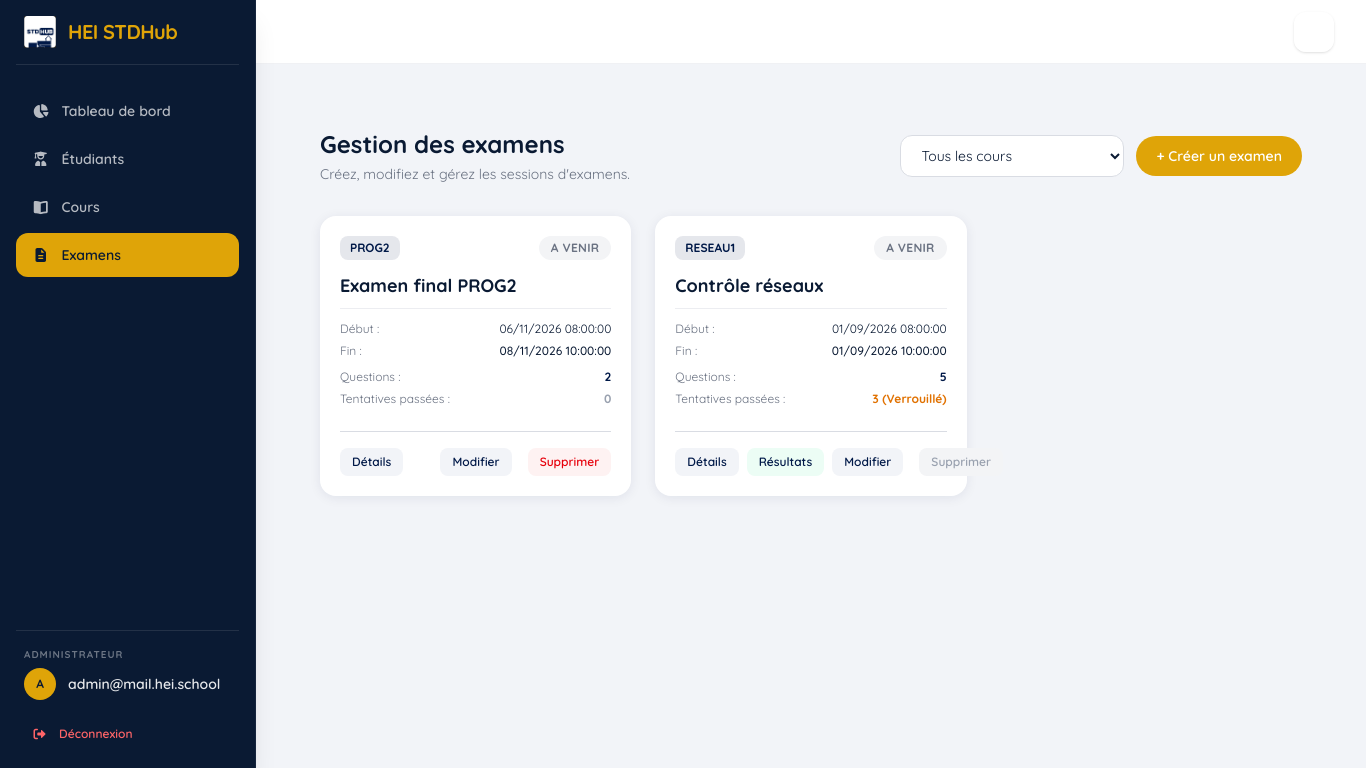
Test: Gestion des examens (admin) › crée un nouvel examen
This screenshot has width=1366, height=768.
Click the button "+ Créer un examen": (1219, 156) [1136, 136, 1302, 176]
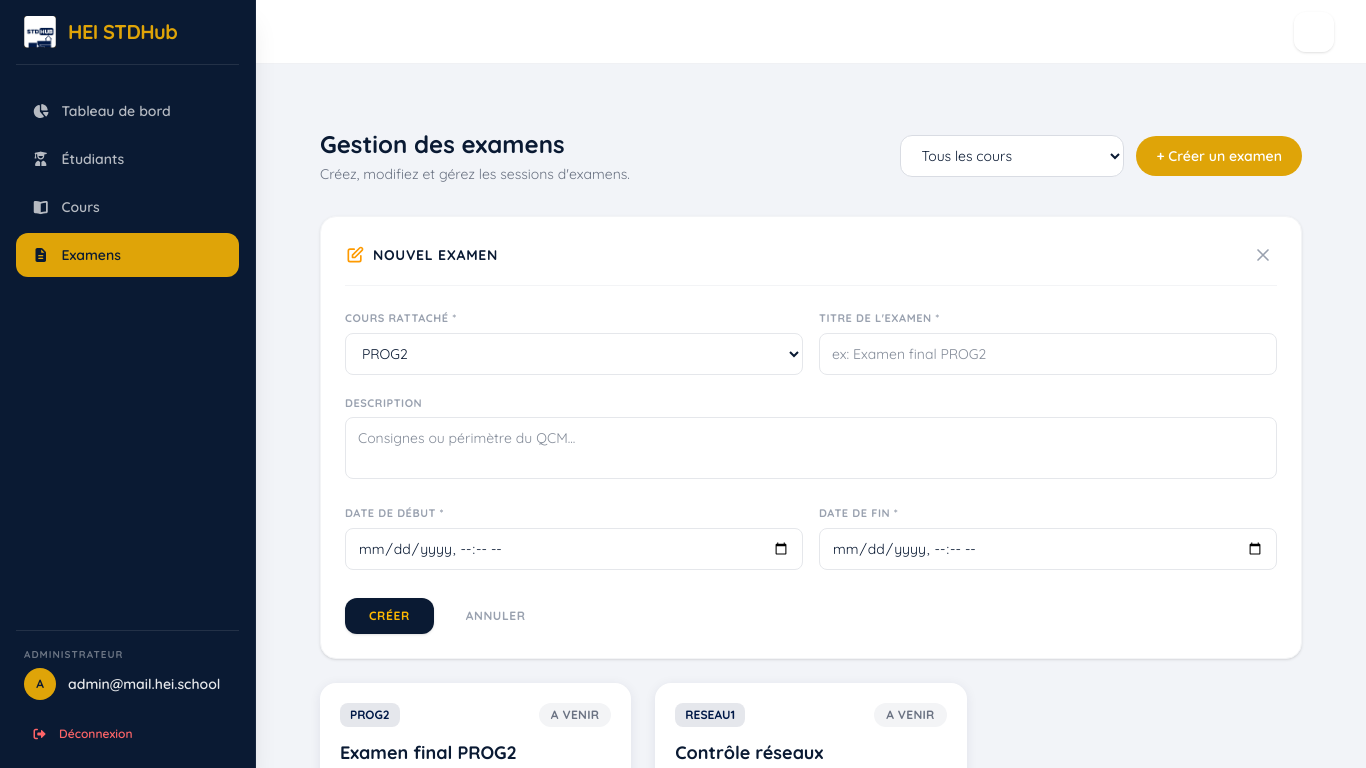
Select "PROG2" in the dropdown below "COURS RATTACHÉ *": (574, 354) [345, 333, 803, 375]
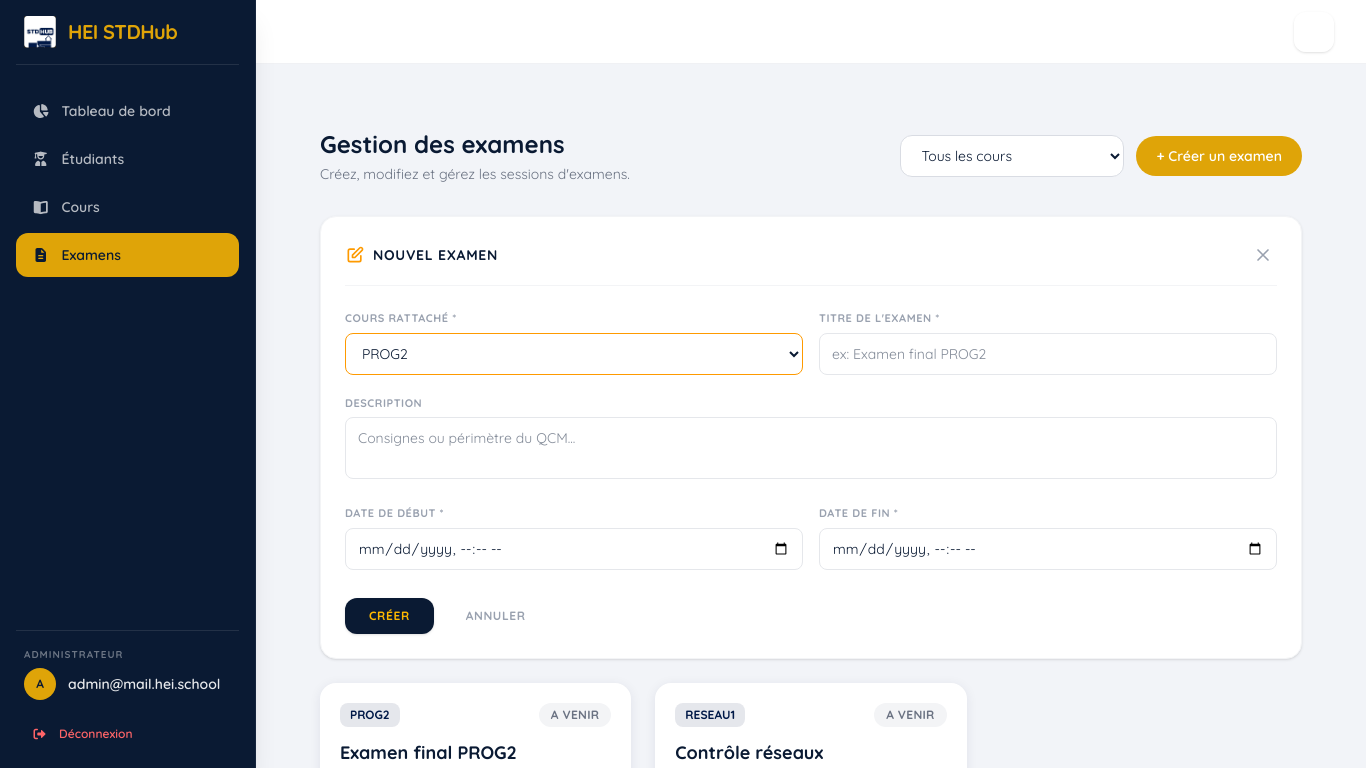
In the field with placeholder "ex: Examen final PROG2": (1048, 354) [819, 333, 1277, 375], type "Nouveau QCM"
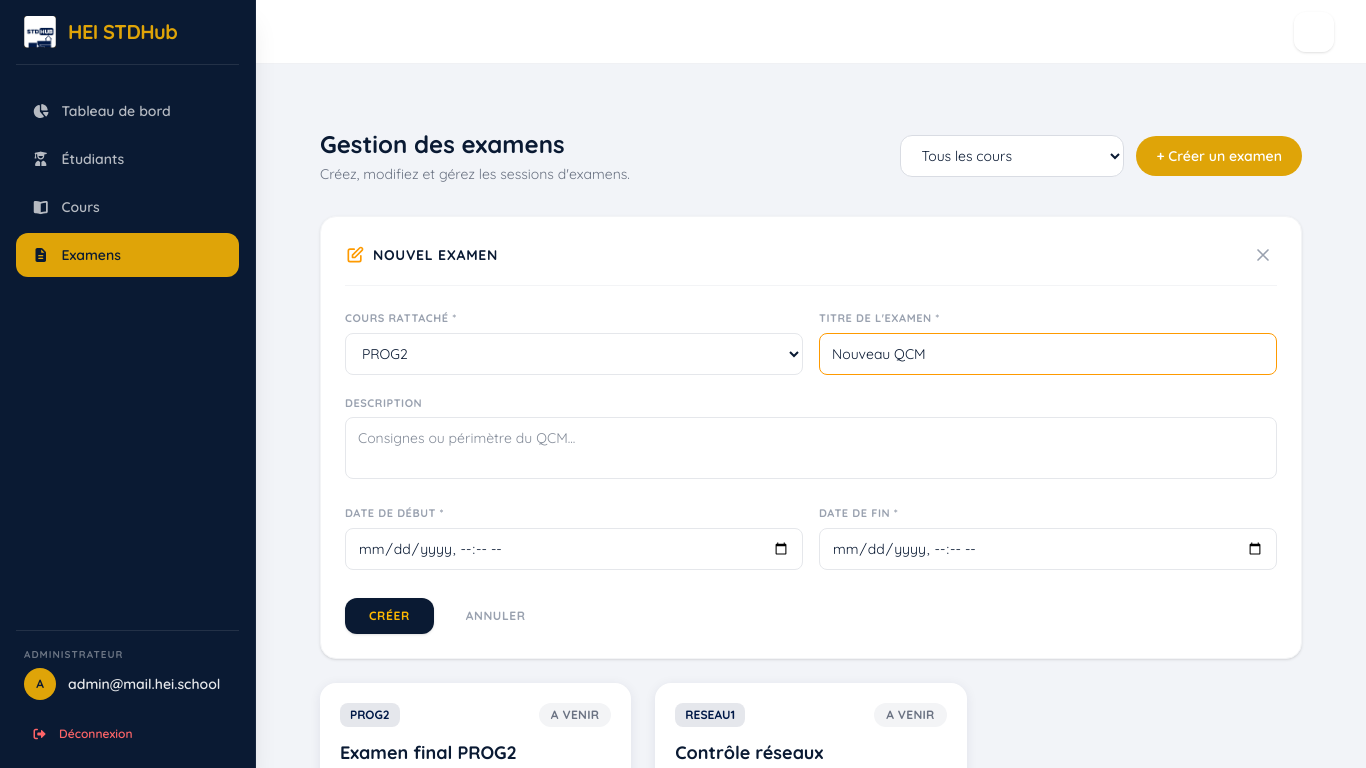
In the field below "DATE DE DÉBUT *": (574, 549) [345, 528, 803, 570], type "2026-12-01T08:00"
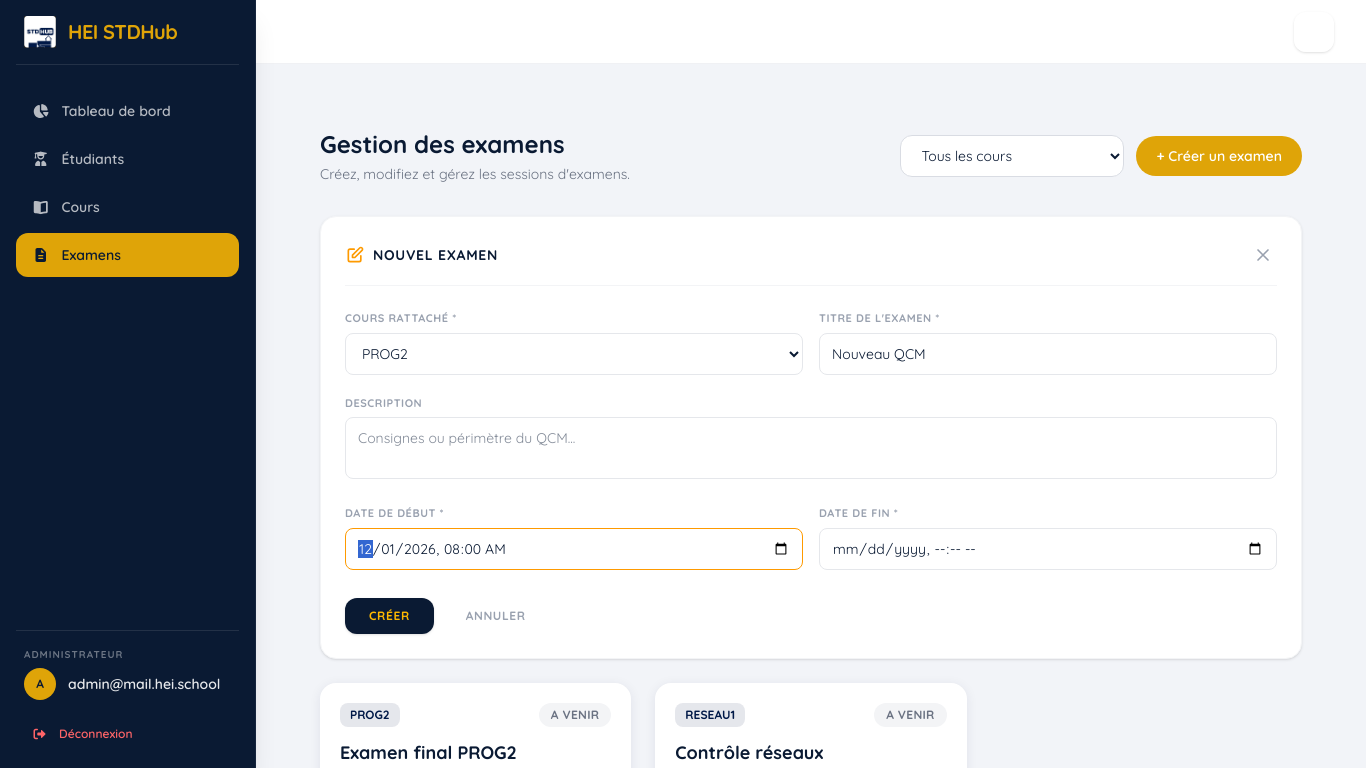
In the field below "DATE DE FIN *": (1048, 549) [819, 528, 1277, 570], type "2026-12-01T10:00"
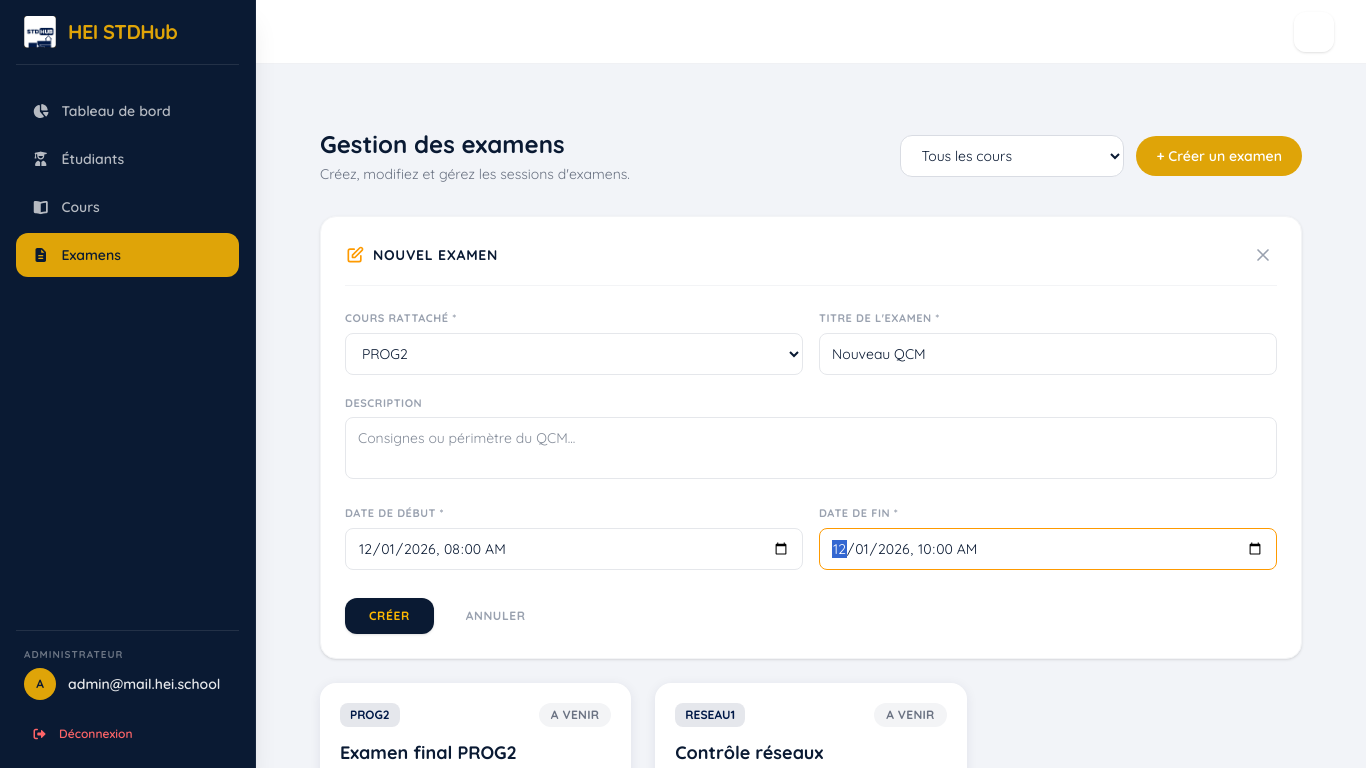
Click the button "CRÉER": (390, 616) [345, 598, 434, 634]
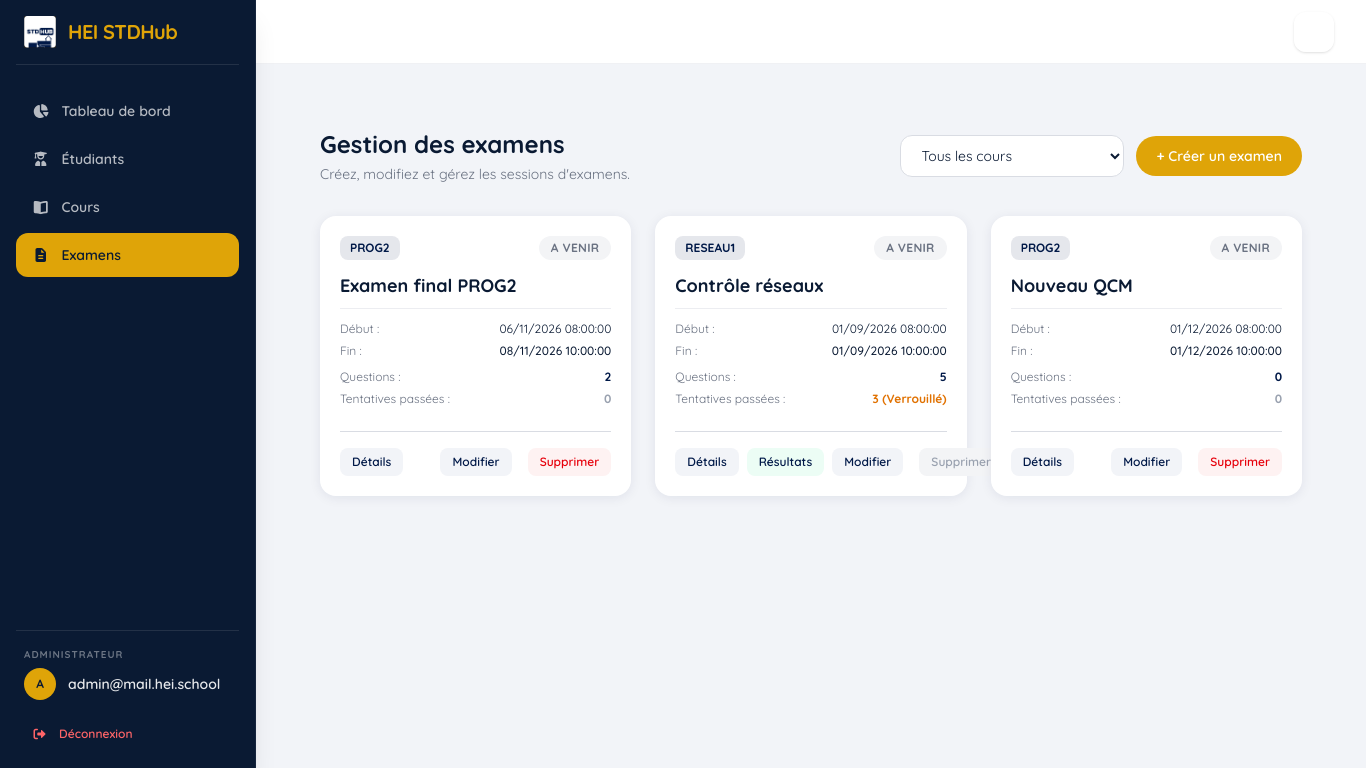
Now the heading "Nouveau QCM" is shown, box [1011, 274, 1133, 297]
